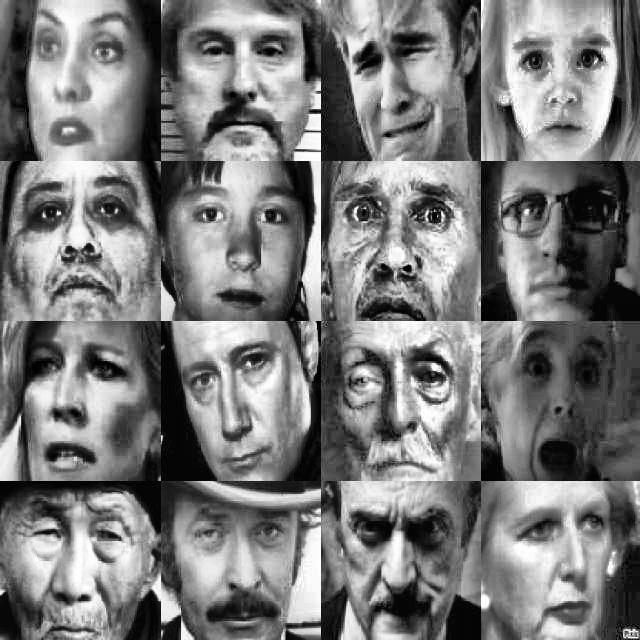angry: (334, 330, 458, 476), (346, 495, 454, 639)
fear: (334, 168, 462, 317), (17, 329, 137, 477), (509, 330, 615, 473), (509, 26, 613, 150)
neutral: (9, 166, 145, 314), (171, 172, 303, 318), (181, 494, 301, 640), (494, 179, 623, 313), (26, 4, 134, 153), (504, 495, 613, 639), (180, 333, 286, 475), (184, 22, 296, 151)
sad: (19, 492, 133, 640), (345, 23, 453, 154)
